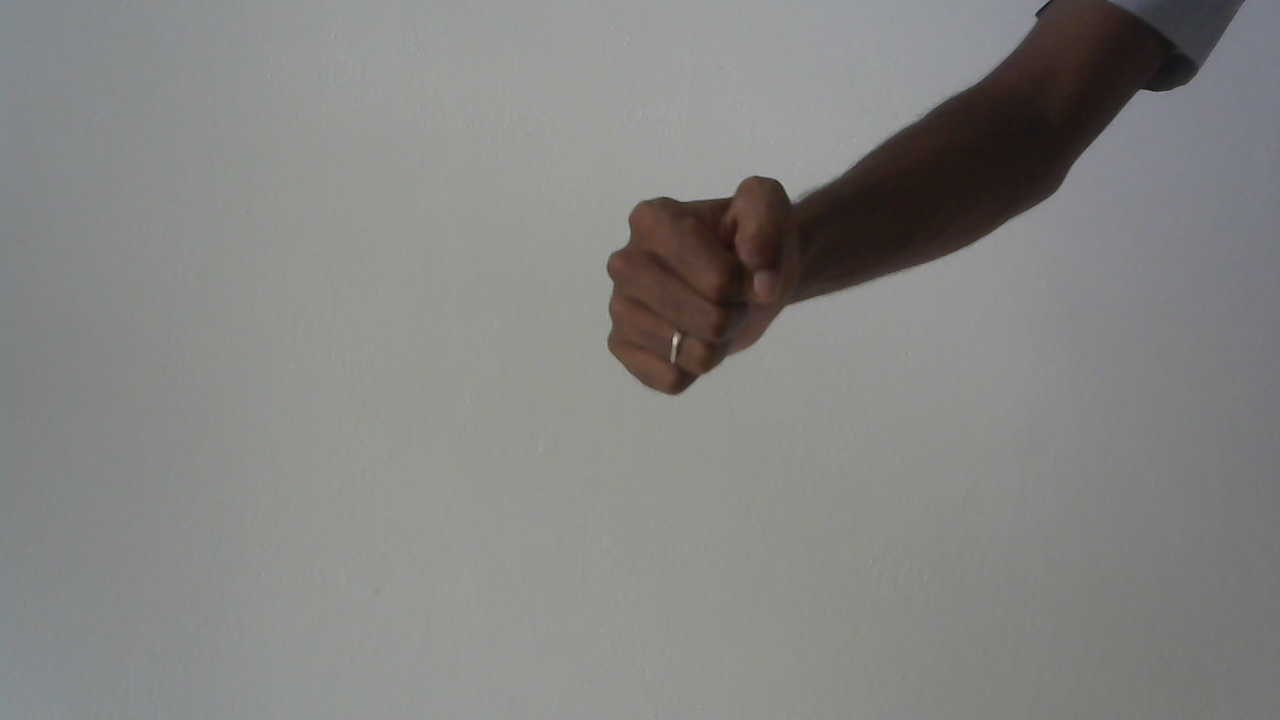yes: (582, 164, 820, 419)
